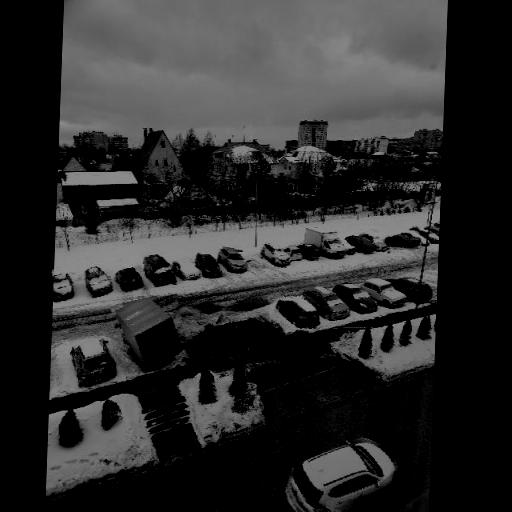busy: (286, 429, 397, 512), (112, 297, 189, 372), (69, 338, 118, 387), (271, 294, 322, 332), (362, 277, 408, 312), (309, 285, 349, 323), (141, 250, 177, 290), (336, 280, 375, 316), (82, 262, 114, 300), (169, 249, 203, 284), (384, 224, 422, 253), (114, 262, 145, 294), (217, 244, 249, 274), (259, 240, 292, 269), (52, 268, 76, 304), (320, 232, 348, 261), (360, 230, 390, 254), (197, 251, 222, 279), (346, 230, 374, 255), (300, 240, 321, 261), (286, 244, 305, 263)
free: (247, 256, 264, 278)
